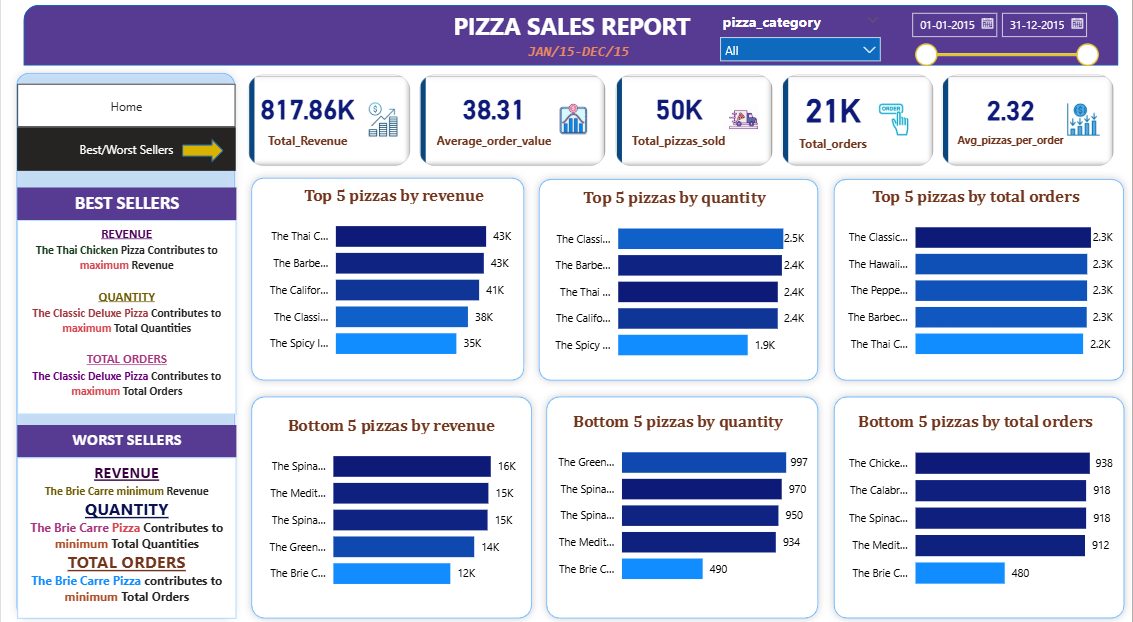

What the dashboard file says about the page in this screenshot:
{"tool":"powerbi","page":{"name":"Best/Worst Sellers","canvas":[1280,720],"ordinal":1},"visuals":[{"type":"shape","box":[8.6,84.4,265.4,635.9],"z":0},{"type":"cardVisual","fields":{"Data":["pizza_sales.Total_Revenue"]},"box":[273.9,90.5,194.4,114.9],"z":1000},{"type":"cardVisual","fields":{"Data":["pizza_sales.Average_order_value"]},"box":[468.3,90.5,221.3,114.9],"z":2000},{"type":"cardVisual","fields":{"Data":["pizza_sales.Total_pizzas_sold"]},"box":[689.7,90.5,188.3,114.9],"z":3000},{"type":"cardVisual","fields":{"Data":["pizza_sales.Total_orders"]},"box":[878,90.5,182.2,114.9],"z":4000},{"type":"cardVisual","fields":{"Data":["pizza_sales.Avg_pizzas_per_order"]},"box":[1060.2,90.5,205.4,114.9],"z":5000},{"type":"shape","box":[26.1,16.5,1239.1,68.6],"z":6000},{"type":"textbox","box":[488.5,16.5,315.6,56.3],"z":7000},{"type":"textbox","box":[591.4,54.9,163.3,35.7],"z":8000},{"type":"shape","box":[273.9,204.2,326.5,247],"z":9000},{"type":"textbox","box":[18.3,223.8,248.2,36.7],"z":10000},{"type":"textbox","box":[18.3,260.5,248.2,220.1],"z":11000},{"type":"textbox","box":[18.3,492.8,248.2,36.7],"z":12000},{"type":"textbox","box":[18.3,529.5,248.2,182.2],"z":13000},{"type":"slicer","fields":{"Values":["pizza_sales.pizza_category"]},"box":[803.4,19.6,201.8,64.8],"z":14000},{"type":"slicer","fields":{"Values":["pizza_sales.order_date"]},"box":[1018.6,15.6,232,133],"z":15000},{"type":"shape","box":[934.2,205.4,346.1,245.8],"z":16000},{"type":"shape","box":[600.4,205.4,333.8,245.8],"z":17000},{"type":"shape","box":[933.7,451.3,346.6,268.8],"z":18000},{"type":"shape","box":[608.3,451.3,325.4,268.8],"z":19000},{"type":"shape","box":[274.4,451.3,335.3,268.8],"z":20000},{"type":"barChart","title":"Top 5 pizzas by revenue","fields":{"Category":["pizza_sales.pizza_name"],"Y":["pizza_sales.Total_Revenue"]},"box":[287.2,220.7,314.1,209.4],"z":21000},{"type":"barChart","title":"Bottom 5 pizzas by revenue","fields":{"Category":["pizza_sales.pizza_name"],"Y":["pizza_sales.Total_Revenue"]},"box":[284.4,481,314.1,209.4],"z":22000},{"type":"barChart","title":"Top 5 pizzas by quantity","fields":{"Category":["pizza_sales.pizza_name"],"Y":["pizza_sales.Total_pizzas_sold"]},"box":[609.7,223.5,304.2,208],"z":23000},{"type":"barChart","title":"Bottom 5 pizzas by quantity","fields":{"Category":["pizza_sales.pizza_name"],"Y":["pizza_sales.Total_pizzas_sold"]},"box":[614,476.7,304.2,208],"z":24000},{"type":"barChart","title":"Top 5 pizzas by total orders","fields":{"Category":["pizza_sales.pizza_name"],"Y":["pizza_sales.Total_orders"]},"box":[942.2,222.1,321.1,208],"z":25000},{"type":"barChart","title":"Bottom 5 pizzas by total orders","fields":{"Category":["pizza_sales.pizza_name"],"Y":["pizza_sales.Total_orders"]},"box":[942.2,476.7,321.1,213.6],"z":26000},{"type":"pageNavigator","box":[18.4,106.1,247.6,49.5],"z":26001},{"type":"pageNavigator","box":[18.4,155.6,247.6,49.5],"z":26002},{"type":"shape","box":[205.1,168.3,46.7,26.9],"z":26003}]}

Visuals, with their boxes in screenshot pixels (x1, y1, x2, y2), scaled from the page's 1280x720 canvas onto the 1133x622 screenshot:
shape: rect(8, 73, 243, 621)
cardVisual - pizza_sales.Total_Revenue: rect(242, 78, 415, 177)
cardVisual - pizza_sales.Average_order_value: rect(415, 78, 610, 177)
cardVisual - pizza_sales.Total_pizzas_sold: rect(610, 78, 777, 177)
cardVisual - pizza_sales.Total_orders: rect(777, 78, 938, 177)
cardVisual - pizza_sales.Avg_pizzas_per_order: rect(938, 78, 1120, 177)
shape: rect(23, 14, 1120, 74)
textbox: rect(432, 14, 712, 63)
textbox: rect(523, 47, 668, 78)
shape: rect(242, 176, 531, 390)
textbox: rect(16, 193, 236, 225)
textbox: rect(16, 225, 236, 415)
textbox: rect(16, 426, 236, 457)
textbox: rect(16, 457, 236, 615)
slicer - pizza_sales.pizza_category: rect(711, 17, 890, 73)
slicer - pizza_sales.order_date: rect(902, 13, 1107, 128)
shape: rect(827, 177, 1132, 390)
shape: rect(531, 177, 827, 390)
shape: rect(826, 390, 1132, 621)
shape: rect(538, 390, 826, 621)
shape: rect(243, 390, 540, 621)
"Top 5 pizzas by revenue" barChart: rect(254, 191, 532, 372)
"Bottom 5 pizzas by revenue" barChart: rect(252, 416, 530, 596)
"Top 5 pizzas by quantity" barChart: rect(540, 193, 809, 373)
"Bottom 5 pizzas by quantity" barChart: rect(543, 412, 813, 592)
"Top 5 pizzas by total orders" barChart: rect(834, 192, 1118, 372)
"Bottom 5 pizzas by total orders" barChart: rect(834, 412, 1118, 596)
pageNavigator: rect(16, 92, 235, 134)
pageNavigator: rect(16, 134, 235, 177)
shape: rect(182, 145, 223, 169)
